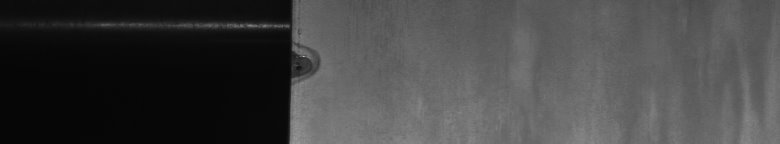hb: (304, 44, 327, 84)
